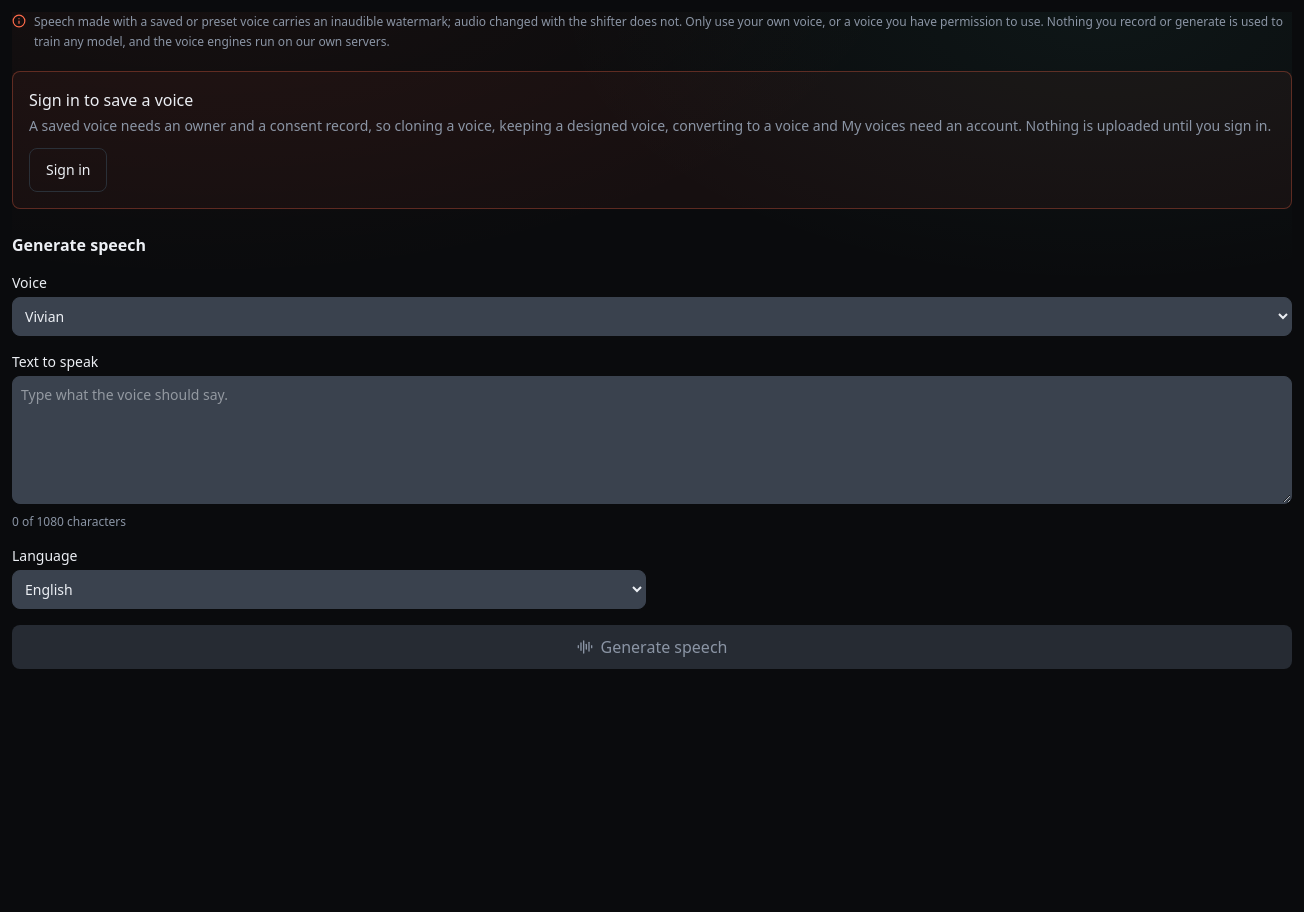
Test case: capabilities states (acceptance 8) › warm:false with a request in flight shows the warming-up text
The width and height of the screenshot is (1304, 912).
Type "Hi" into the text box labelled "Text to speak" at [652, 440], box [12,376,1292,504]
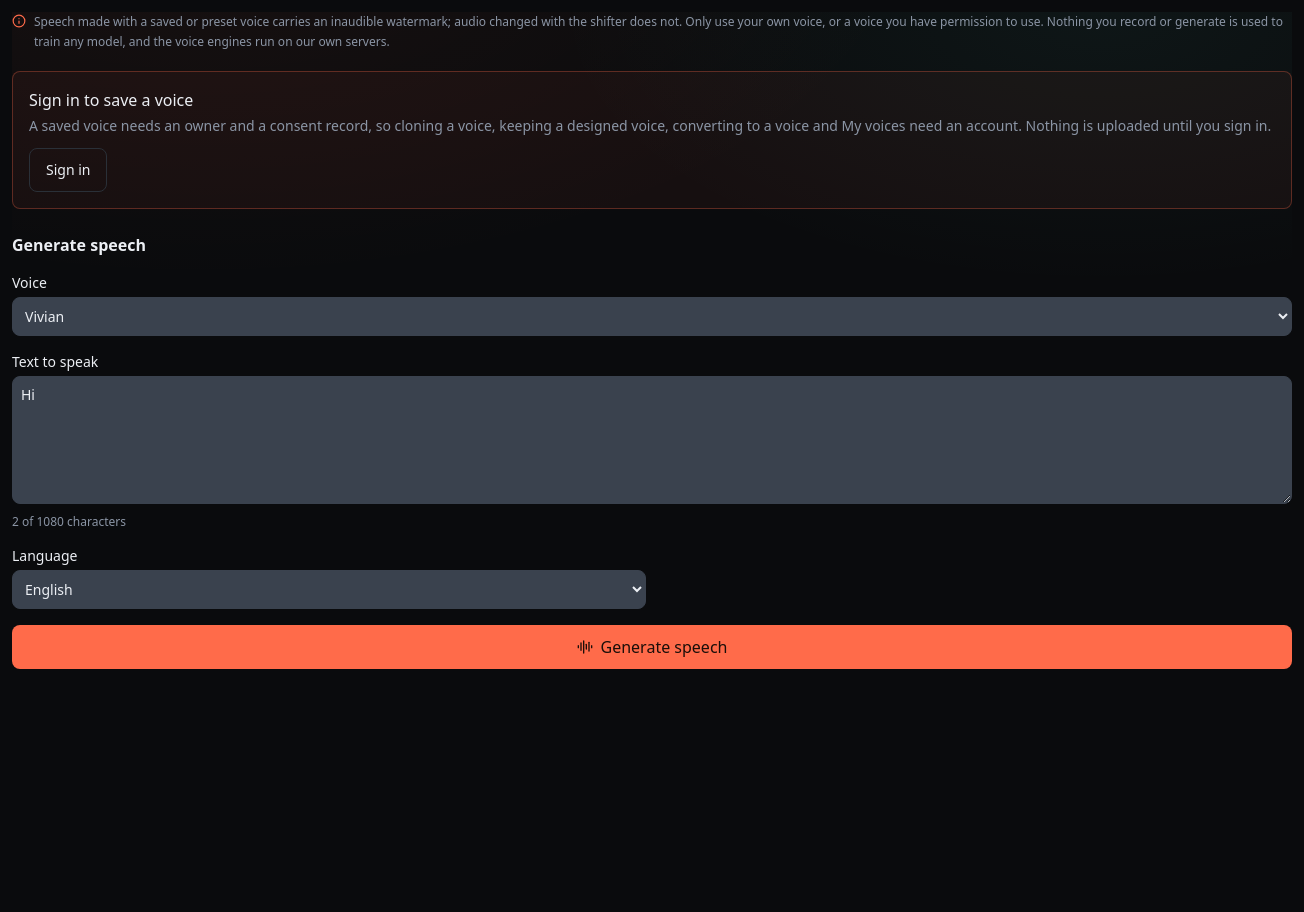
Click the button "Generate speech" at [652, 647], box [12,625,1292,669]
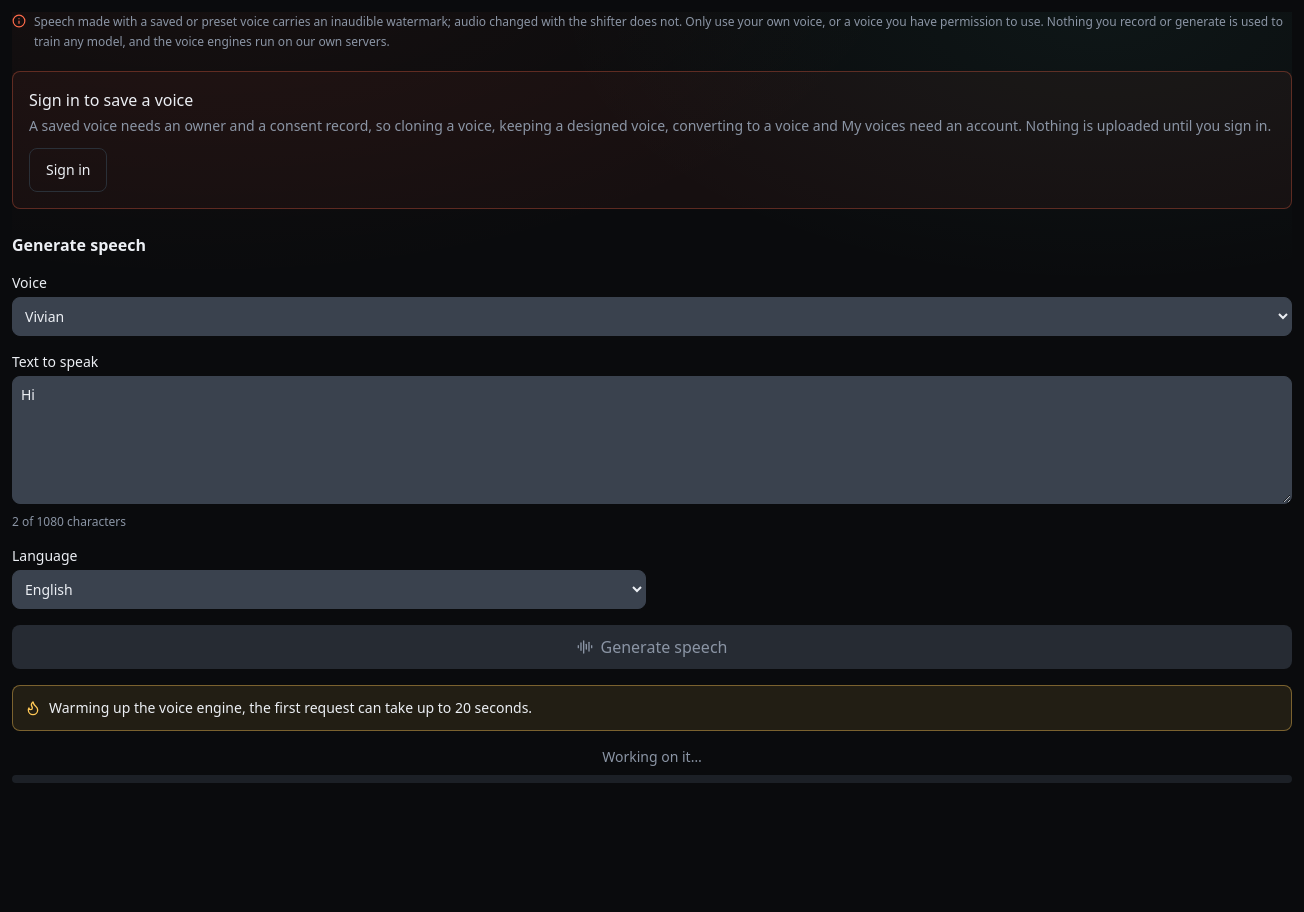
Now the element with test id "voices-warming-up" reads "Warming up the voice engine, the first request can take up to 20 seconds.", box [49,698,532,717]
